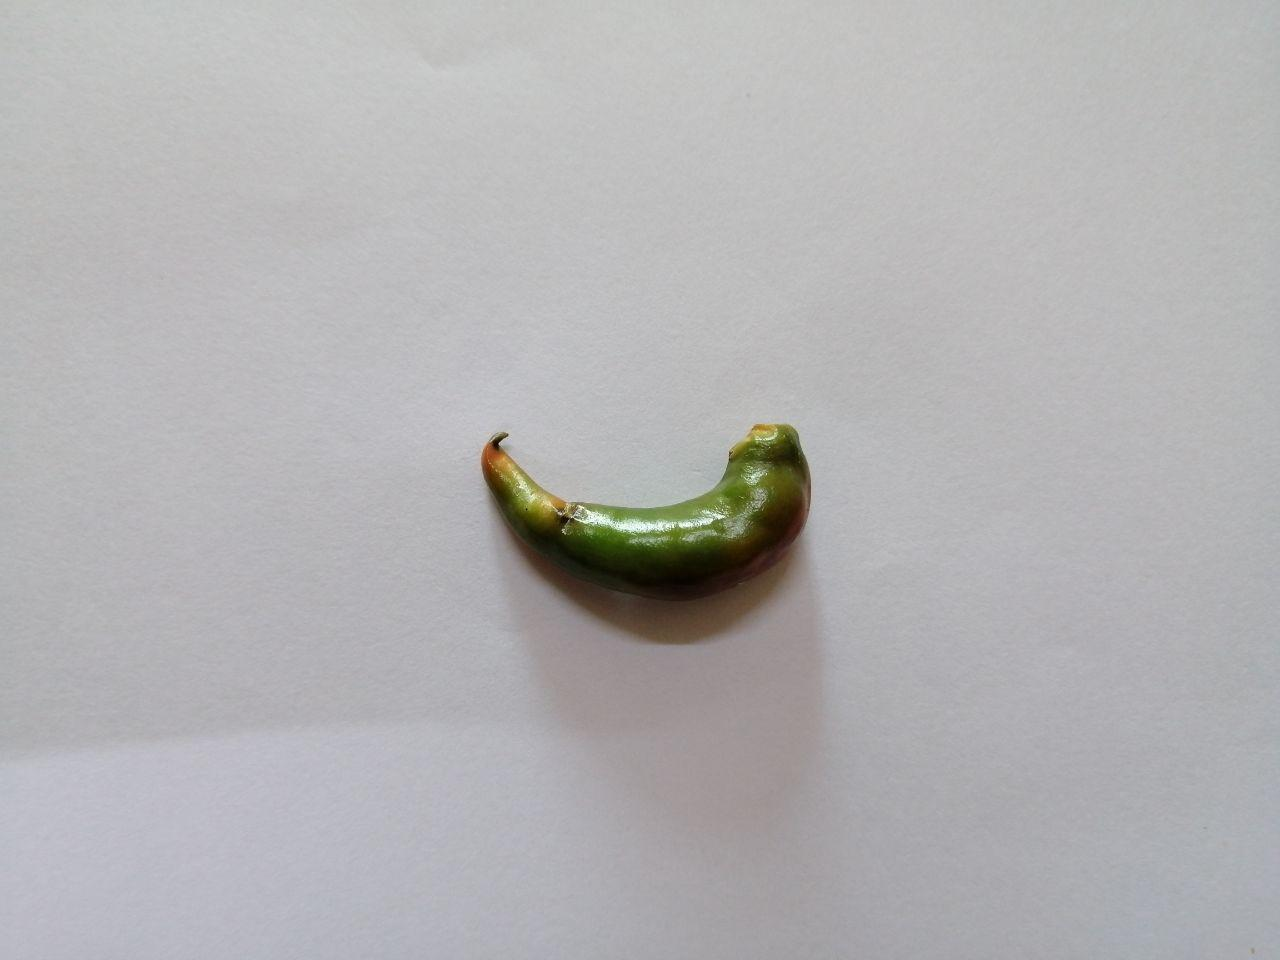lada hijau: (459, 406, 833, 625)
